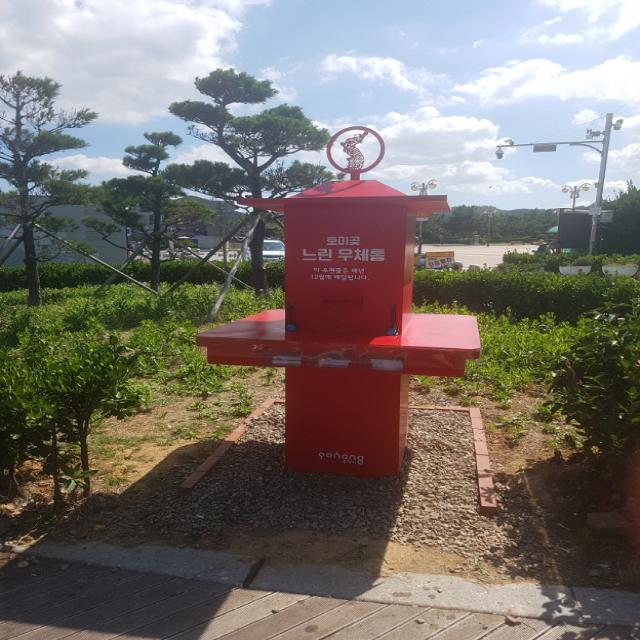Post Box: (198, 176, 478, 479)
